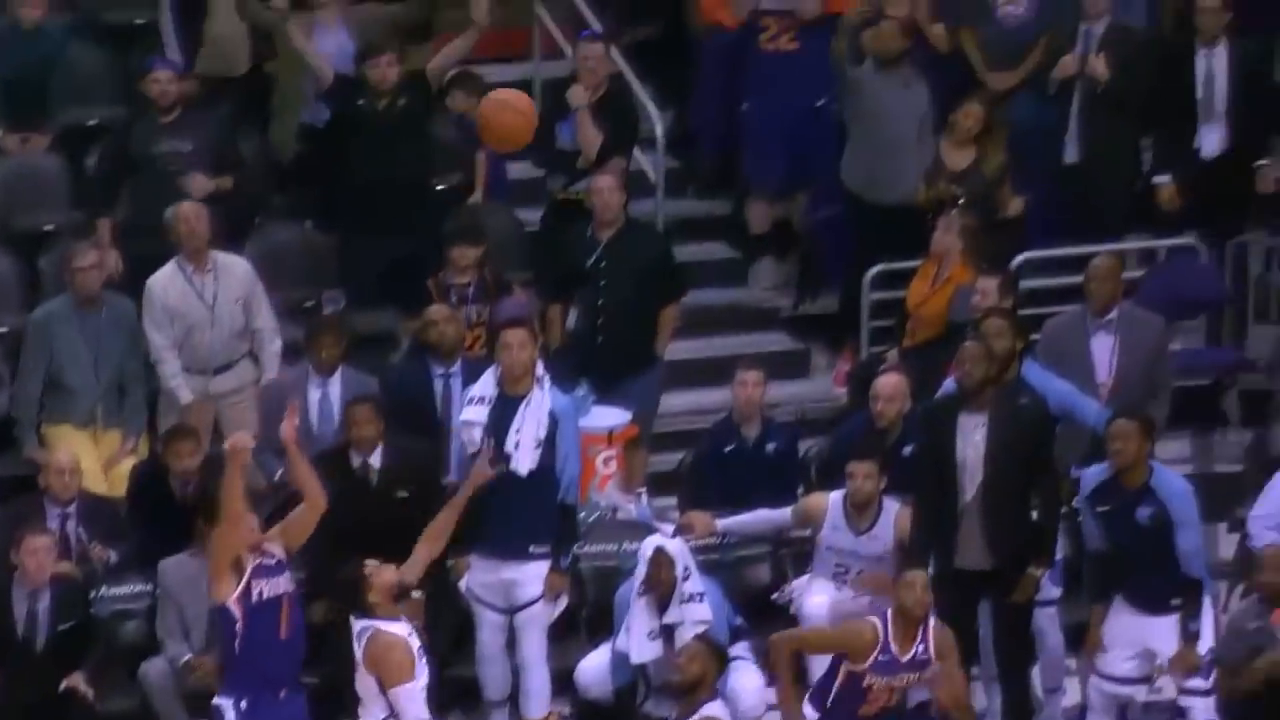ball: (474, 86, 539, 152)
